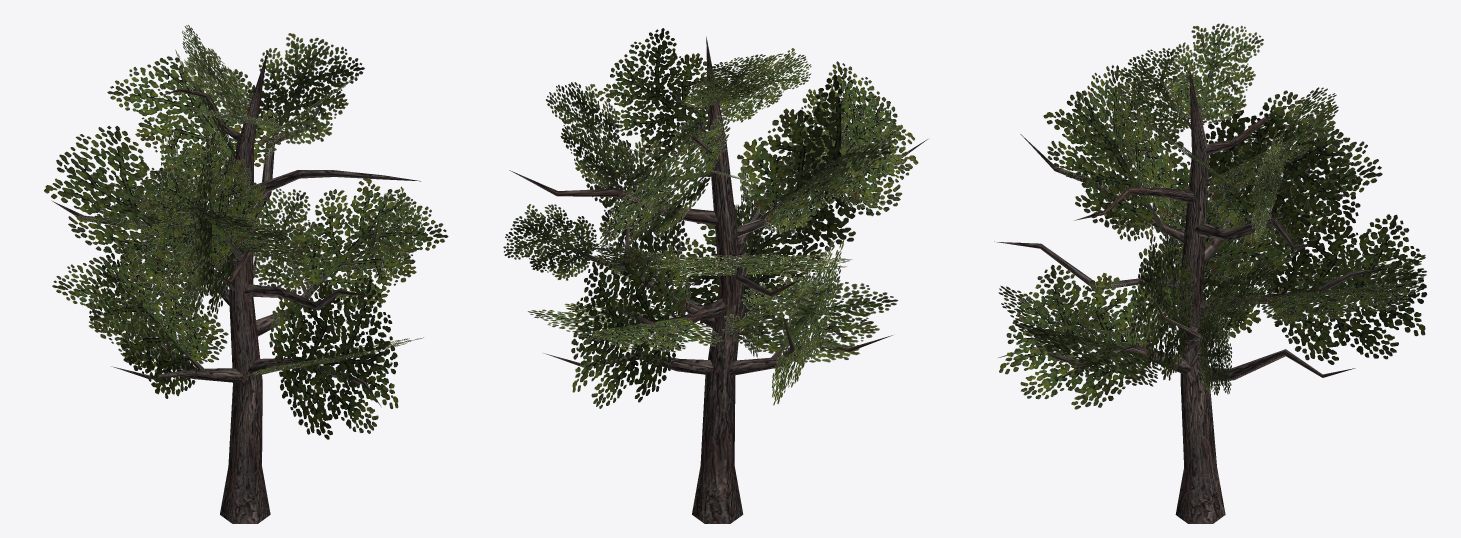
Rendered from baum.obj.
3 renders of one model, left to right at view 1: azimuth 30°, elevation 25°; view 2: azimuth 150°, elevation 25°; view 3: azimuth 270°, elevation 25°, orthographic. The views are drawn at different scales.
Parts seen in each view (by area): view 1: krone, stamm; view 2: krone, stamm; view 3: krone, stamm.
Part boxes in pixels (x1,y1,x2,y2): krone: [44, 25, 448, 439]; stamm: [51, 51, 420, 523]; krone: [503, 28, 918, 408]; stamm: [509, 36, 927, 523]; krone: [998, 23, 1427, 409]; stamm: [994, 67, 1398, 523].
Bounding box in the file's own units: 21.67 × 25.48 × 23.11.
Materials: 2 (2 with a texture image).
